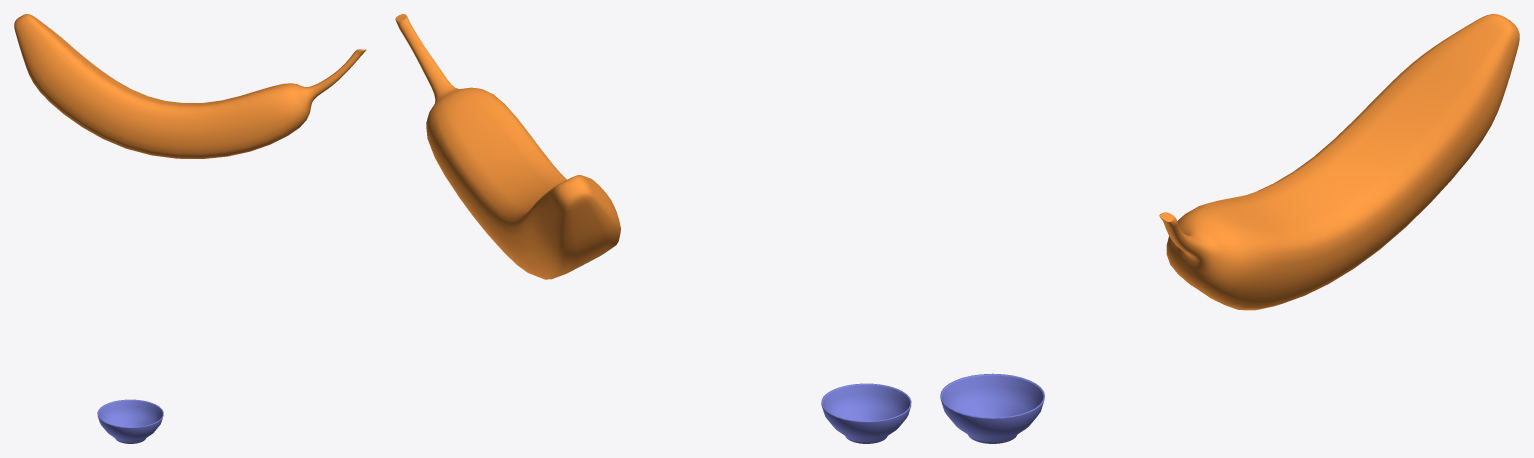
File: bowl.fbx
3 views of the same model, side by side, from view 1: azimuth 30°, elevation 25°; view 2: azimuth 150°, elevation 25°; view 3: azimuth 270°, elevation 25° (orthographic). The views are drawn at different scales.
Visible parts, largest first — view 1: banana.001, Cylinder; view 2: banana.001, Cylinder; view 3: banana.001, Cylinder.
Boxes of the visible parts, x1,y1,x2,y2 form: banana.001: [14, 14, 366, 158]; Cylinder: [97, 399, 163, 443]; banana.001: [395, 14, 620, 279]; Cylinder: [821, 383, 911, 443]; banana.001: [1159, 14, 1519, 310]; Cylinder: [940, 373, 1044, 443].
Bounding box in the file's own units: 422 × 368 × 419.
